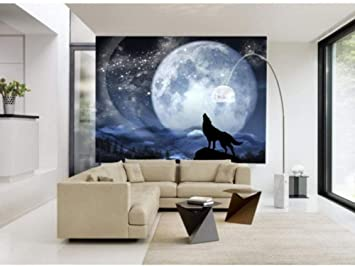Lobo: (199, 111, 240, 149)
